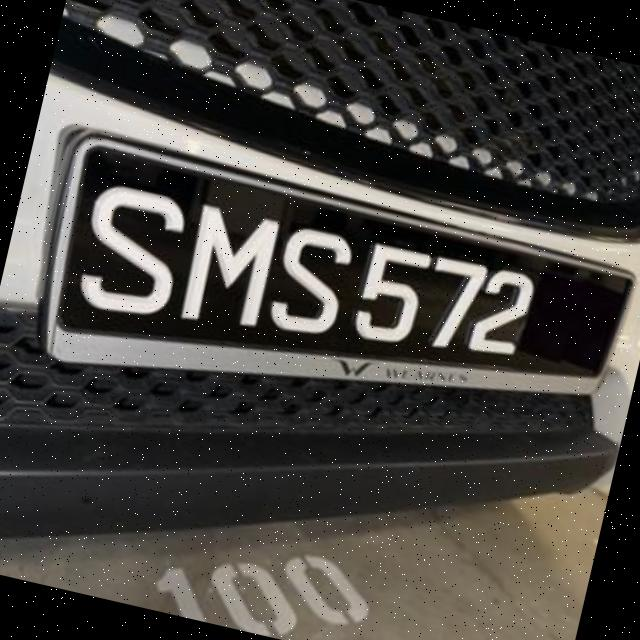License_Plate: (4, 92, 640, 487)
